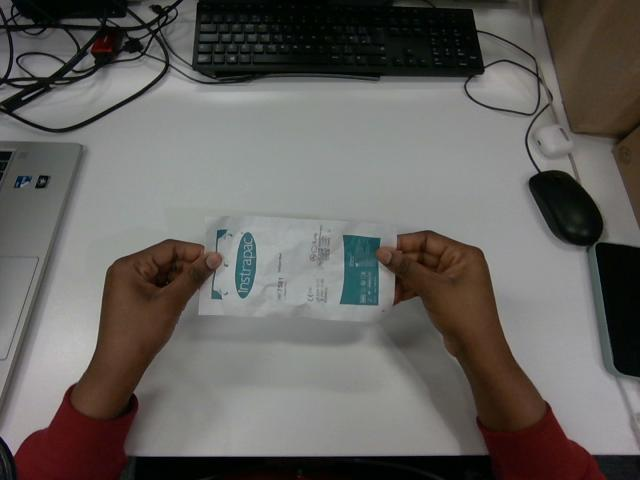gallipot: (199, 216, 396, 321)
